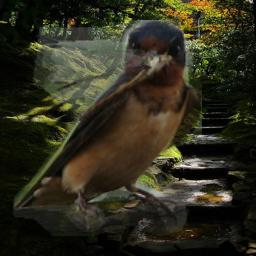Swallow: (13, 20, 202, 236)
